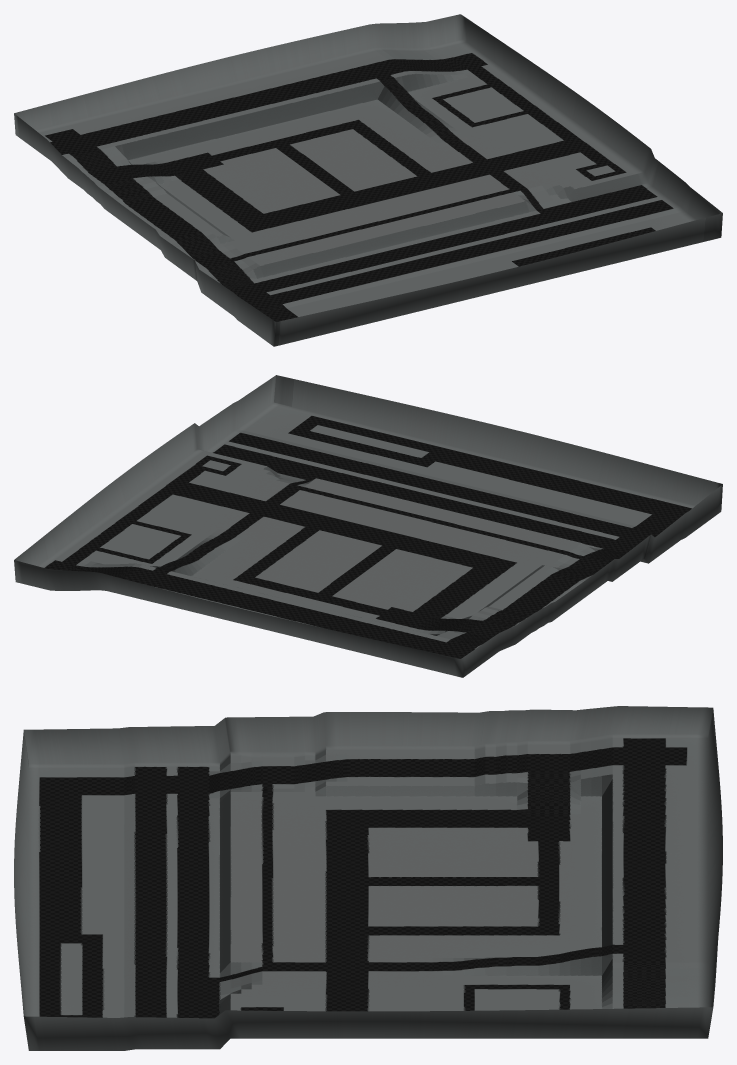
Rendered from checkeredBowl.fbx.
The picture shows the model from 3 angles, top to bottom: view 1: azimuth 30°, elevation 25°; view 2: azimuth 150°, elevation 25°; view 3: azimuth 270°, elevation 25°; orthographic projection. The views are drawn at different scales.
Parts seen in each view (by area): view 1: Plane; view 2: Plane; view 3: Plane.
Boxes of the visible parts, x1,y1,x2,y2 form: Plane: [14, 14, 722, 346]; Plane: [14, 375, 722, 677]; Plane: [14, 706, 722, 1050].
Size of the model in its own units: 78873 by 7096 by 80149.
